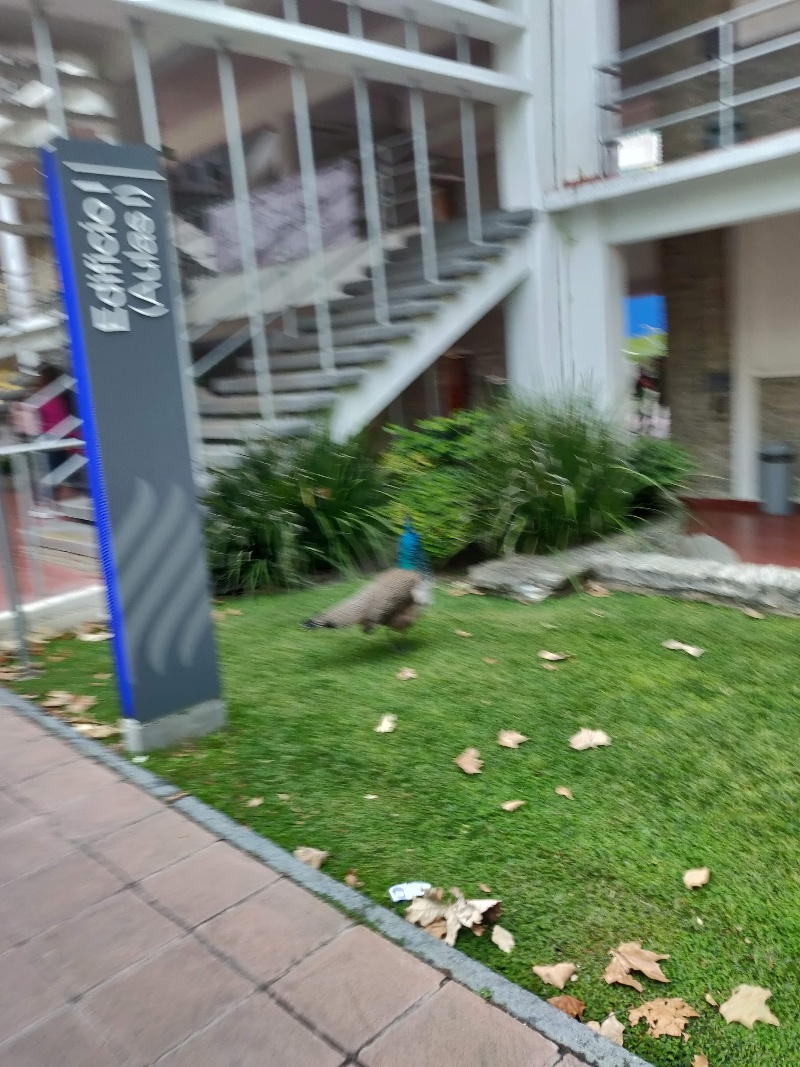pavoreal: (349, 520, 427, 654)
